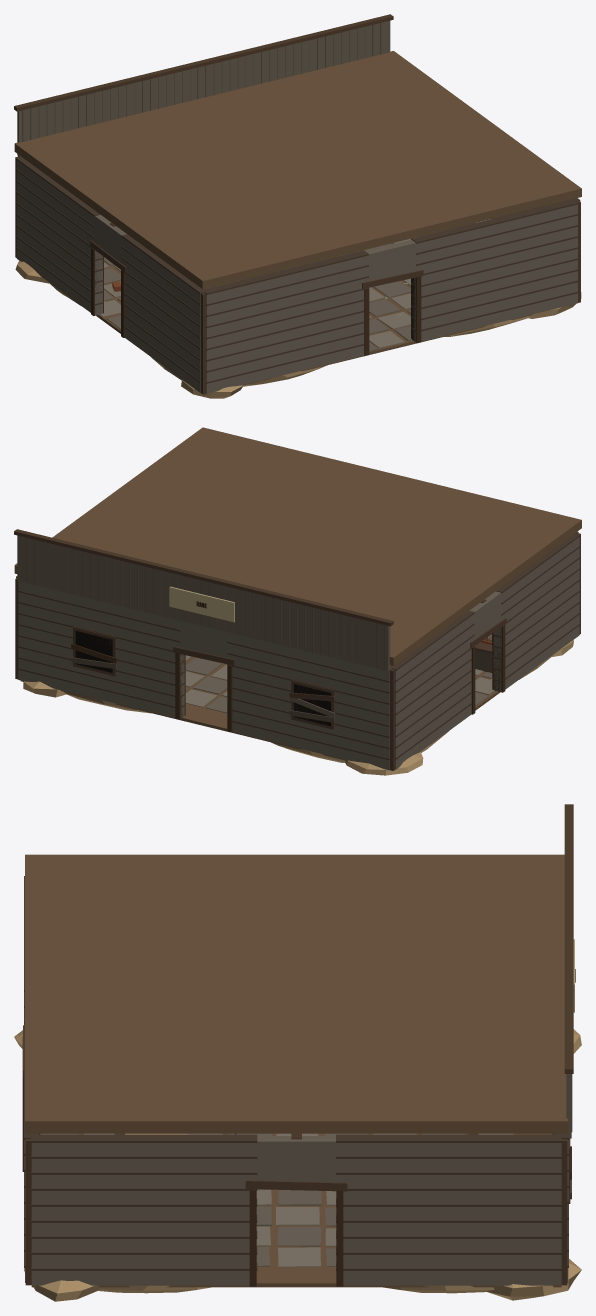
Rendered from TownBldg_bank.glb.
3 renders of one model, top to bottom at view 1: azimuth 30°, elevation 25°; view 2: azimuth 150°, elevation 25°; view 3: azimuth 270°, elevation 25°, orthographic. The views are drawn at different scales.
Parts seen in each view (by area): view 1: TownBldg_bank.001; view 2: TownBldg_bank.001; view 3: TownBldg_bank.001.
Part boxes in pixels (x1,y1,x2,y2): TownBldg_bank.001: (14, 14, 581, 398); TownBldg_bank.001: (14, 427, 581, 775); TownBldg_bank.001: (14, 804, 581, 1301).
Size of the model in its own units: 15.06 by 5.95 by 12.86.
